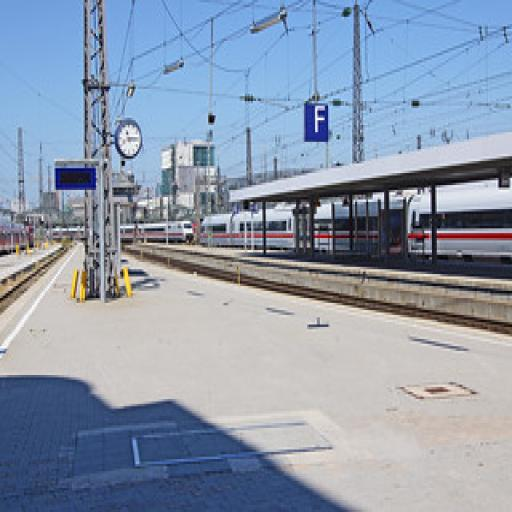platform_edge: (0, 258, 78, 365)
